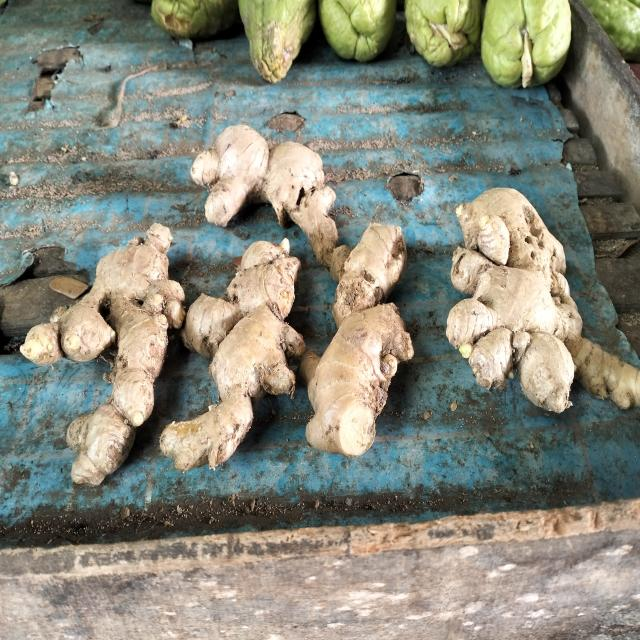ginger: (441, 174, 640, 426), (16, 213, 176, 486), (286, 216, 419, 455), (190, 251, 290, 516), (177, 111, 345, 244)
